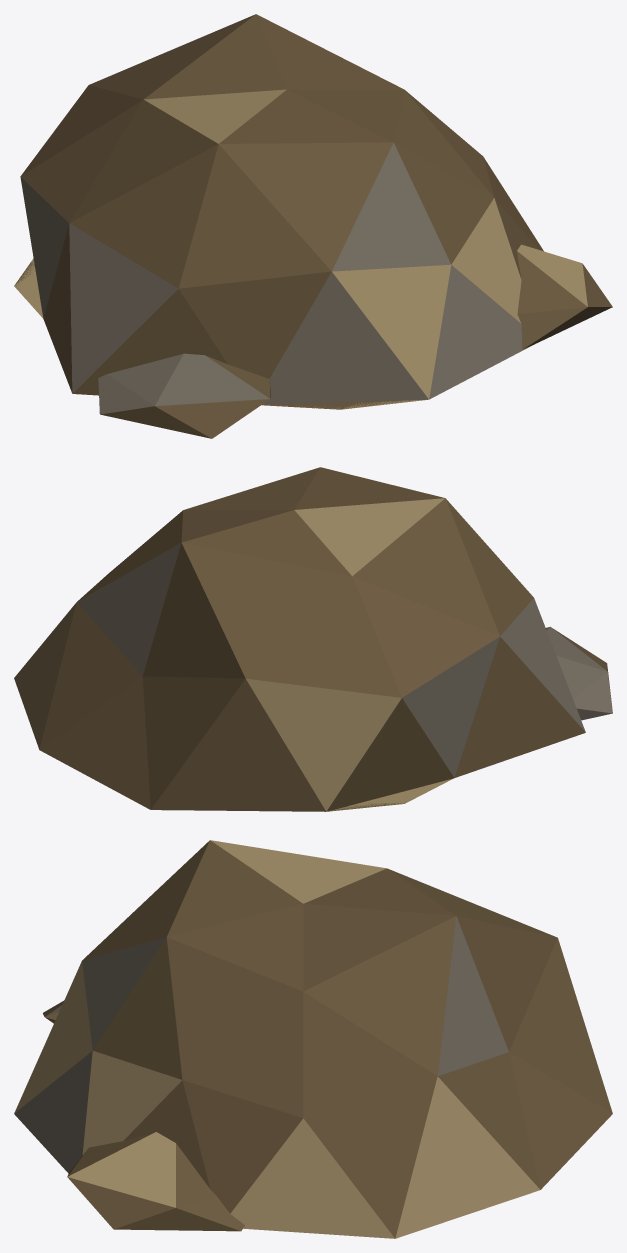
The model's file is dirt_pile.fbx.
3 renders of one model, top to bottom at view 1: azimuth 30°, elevation 25°; view 2: azimuth 150°, elevation 25°; view 3: azimuth 270°, elevation 25°, orthographic. The views are drawn at different scales.
Parts seen in each view (by area): view 1: dirt_pile; view 2: dirt_pile; view 3: dirt_pile.
Boxes of the visible parts, x1,y1,x2,y2 form: dirt_pile: (14,14,612,438); dirt_pile: (14,467,612,811); dirt_pile: (14,840,612,1238).
Size of the model in its own units: 4.75 by 1.91 by 4.71.
